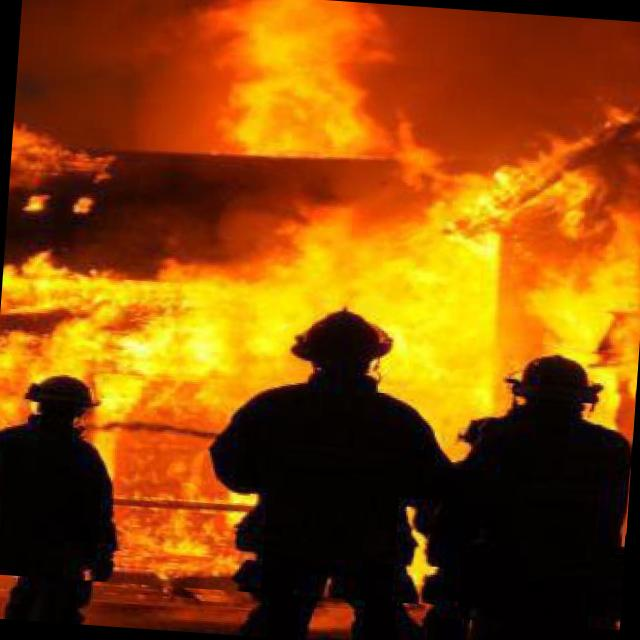fire: (0, 0, 640, 617)
